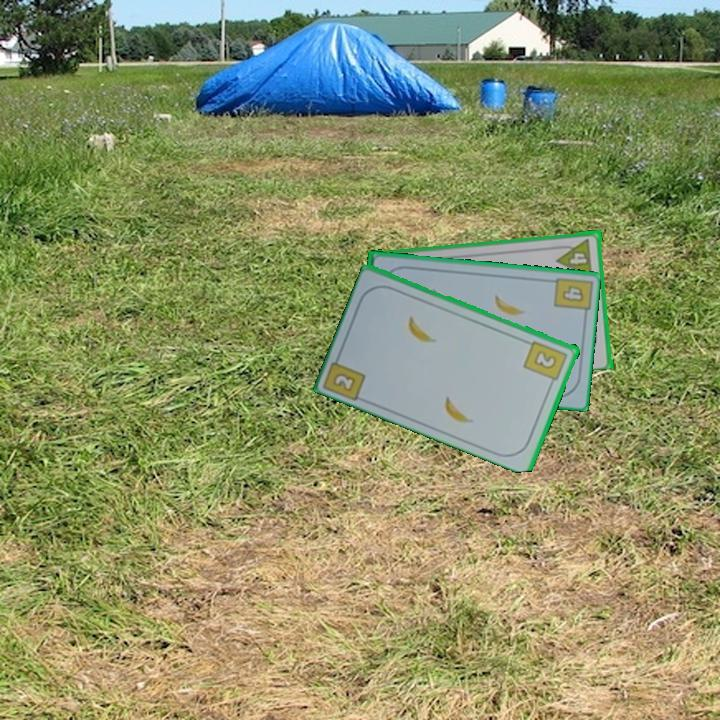2b: (521, 337, 570, 388), (330, 369, 359, 394)
4b: (559, 282, 587, 304)
4p: (553, 235, 595, 279)
